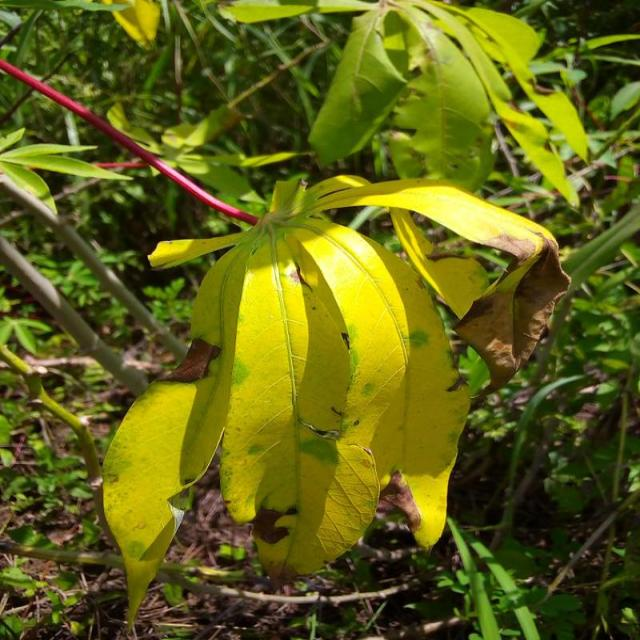cassava leaf: (99, 171, 569, 630)
